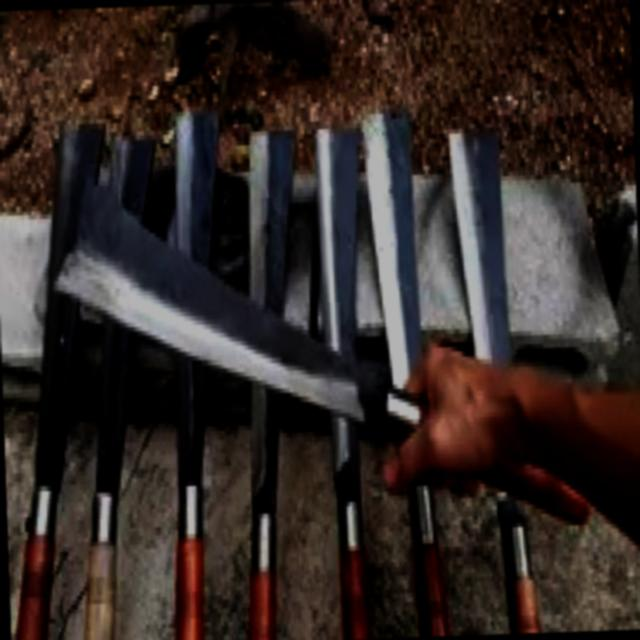eto: (51, 172, 595, 521)
